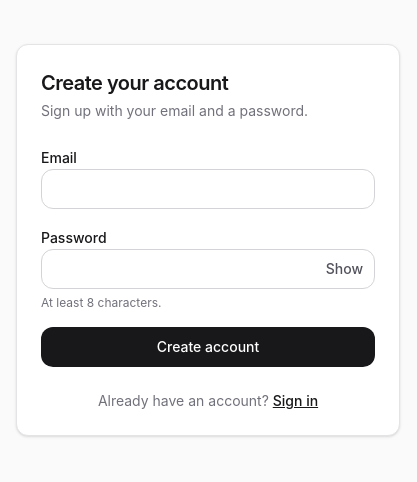
Scenario: SignUpPage › explains that the email already has an account and suggests signing in
In the field labelled "Email": [208, 189] box top-left (41, 169), bottom-right (375, 209), type "ada@example.com"
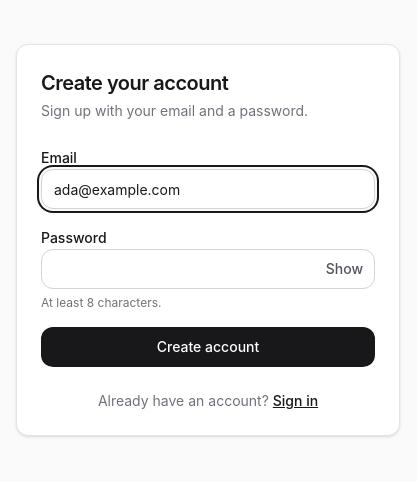
In the password field labelled "Password": [208, 269] box top-left (41, 249), bottom-right (375, 289), type "long-enough-pw"
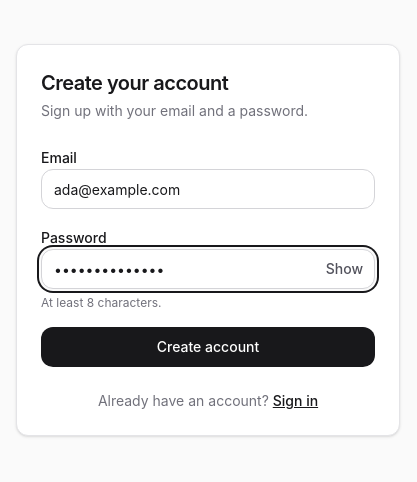
Click the button "Create account": [208, 347] box top-left (41, 327), bottom-right (375, 367)
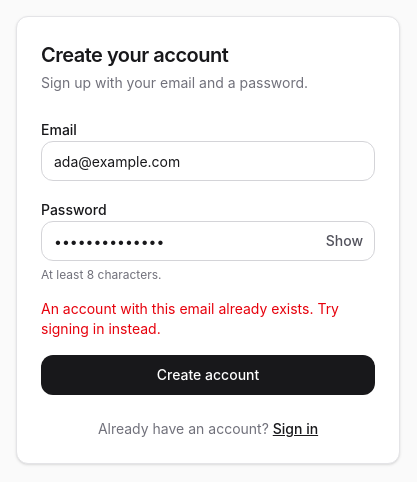
Expected: the message reads "An account with this email already exists. Try signing in instead.", top-left (41, 300), bottom-right (339, 337)
